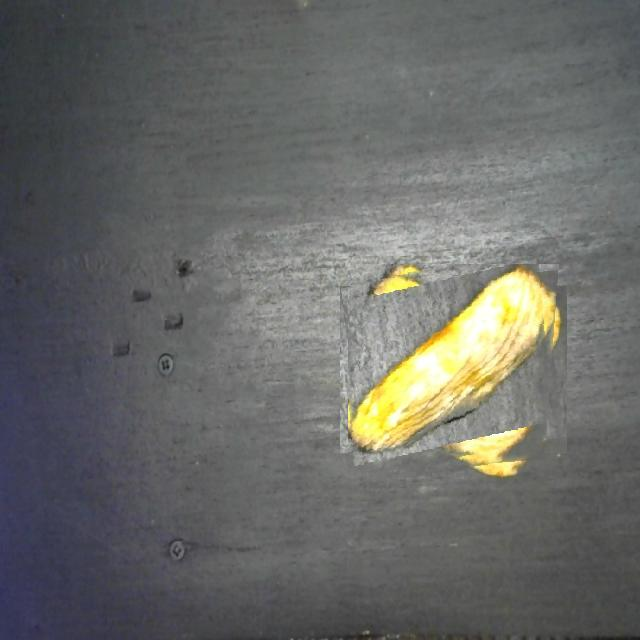biodegradable: (348, 264, 560, 475)
